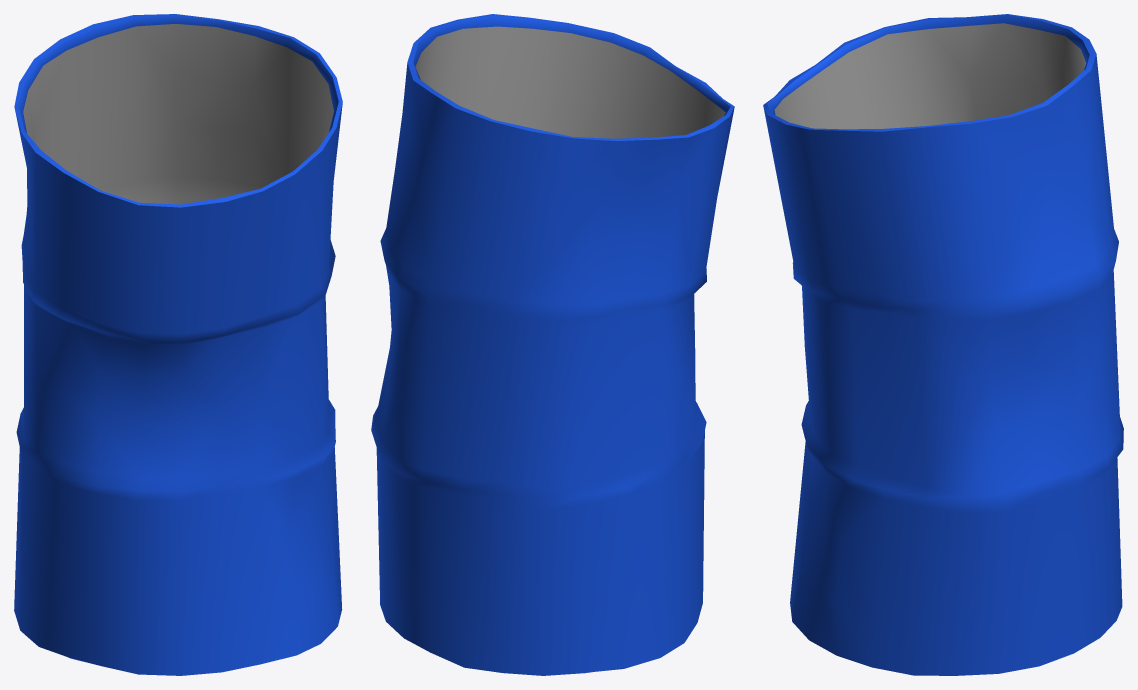
The model's file is barrel_open_2mat_damage3.fbx.
3 renders of one model, left to right at view 1: azimuth 30°, elevation 25°; view 2: azimuth 150°, elevation 25°; view 3: azimuth 270°, elevation 25°, orthographic.
Parts seen in each view (by area): view 1: barrel_open_2mat_damage3; view 2: barrel_open_2mat_damage3; view 3: barrel_open_2mat_damage3.
Part boxes in pixels (x1,y1,x2,y2): barrel_open_2mat_damage3: (14,14,342,675); barrel_open_2mat_damage3: (371,14,734,675); barrel_open_2mat_damage3: (763,14,1123,675).
Bounding box in the file's own units: 53.52 × 90.75 × 53.68.
